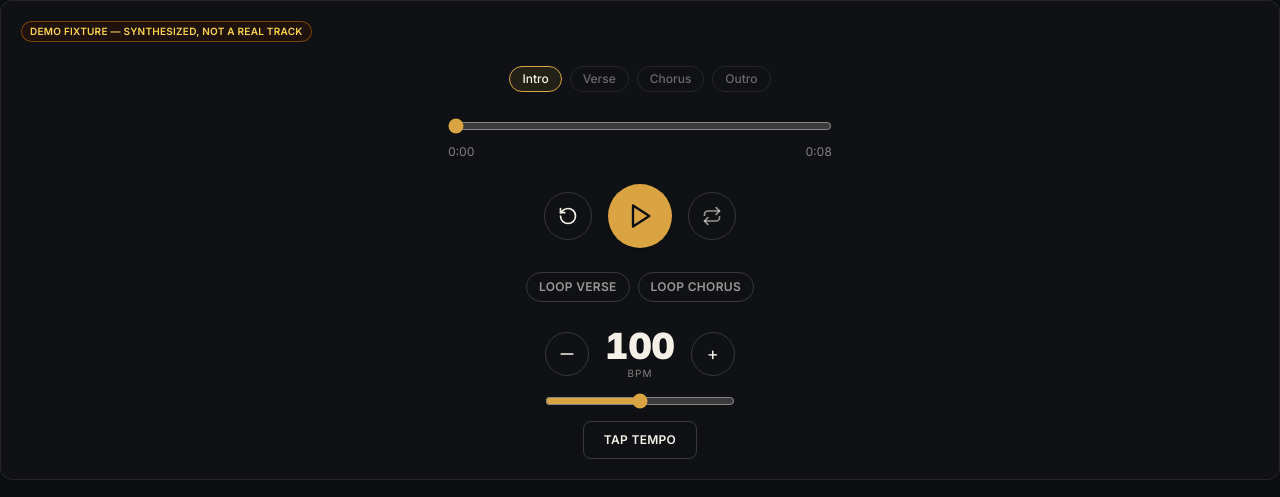
Test case: LoopPlayer › BPM +/- buttons move the displayed tempo without stopping playback
Click the button named "Play" at (640, 216), box top-left (608, 184), bottom-right (672, 248)
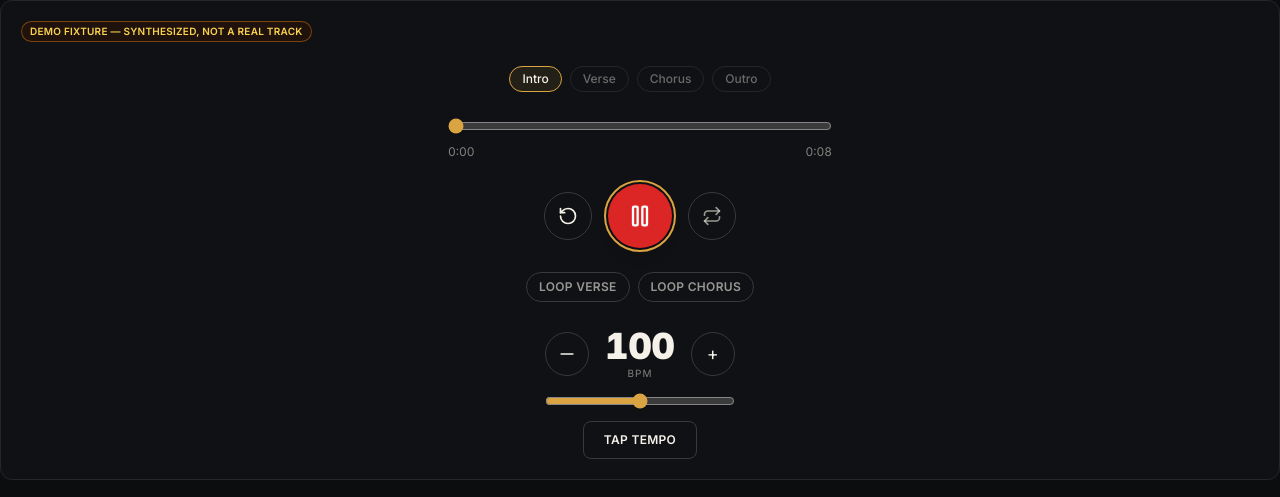
expect the button named "Pause" is shown: met, box top-left (608, 184), bottom-right (672, 248)
Click the button named "Increase tempo" at (713, 354), box top-left (691, 332), bottom-right (735, 376)
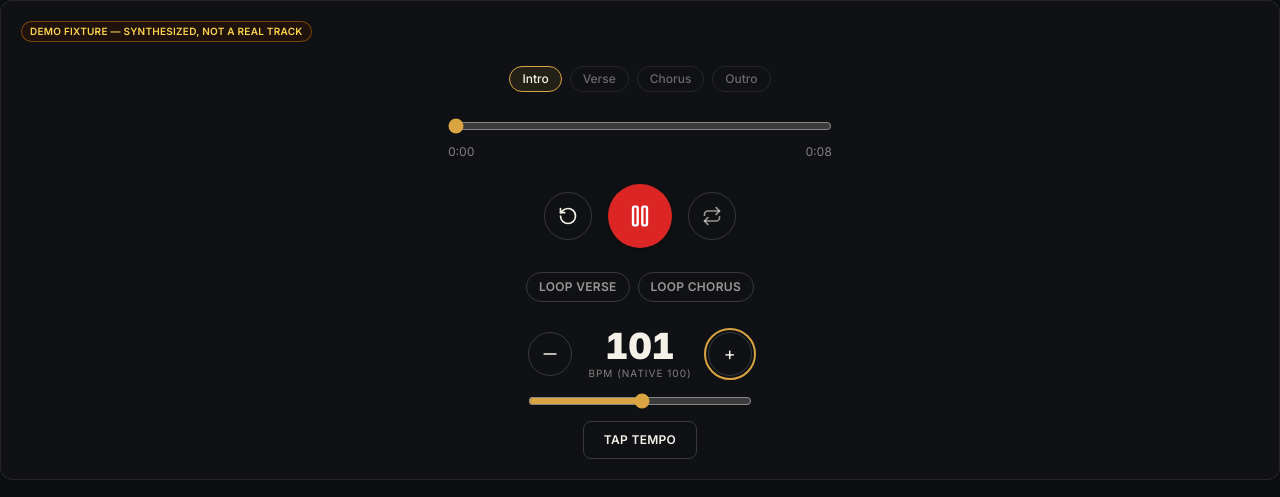
expect the button named "Pause" is shown: met, box top-left (608, 184), bottom-right (672, 248)
expect the element with test id "loop-player-bpm" no longer shows "100": met
